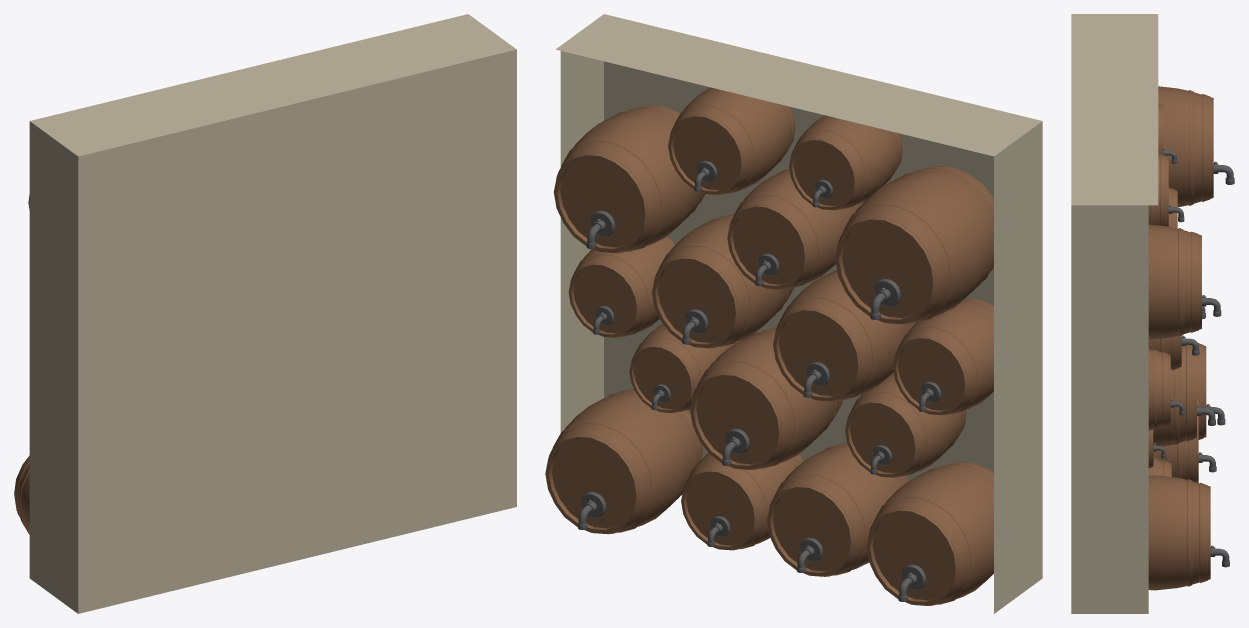
The model's file is mur_tonneaux.fbx.
3 views of the same model, side by side, from view 1: azimuth 30°, elevation 25°; view 2: azimuth 150°, elevation 25°; view 3: azimuth 270°, elevation 25° (orthographic). The views are drawn at different scales.
Visible parts, largest first — view 1: mur_coin_tonneau, tonneau_robinet4; view 2: mur_coin_tonneau, tonneau_robinet14, tonneau_robinet1, tonneau_robinet12, tonneau_robinet4, tonneau_robinet6, tonneau_robinet3, tonneau_robinet9, tonneau_robinet8, tonneau_robinet16, tonneau_robinet13, tonneau_robinet10 (+5 smaller); view 3: mur_coin_tonneau, tonneau_robinet1, tonneau_robinet12, tonneau_robinet14, tonneau_robinet6, tonneau_robinet11, tonneau_robinet3, tonneau_robinet16, tonneau_robinet4, tonneau_robinet8, tonneau_robinet15, tonneau_robinet2 (+2 smaller).
Part boxes in pixels (left/top/right/bottom): mur_coin_tonneau: left=29, top=14, right=516, bottom=613; tonneau_robinet4: left=14, top=455, right=29, bottom=534; mur_coin_tonneau: left=556, top=14, right=1042, bottom=613; tonneau_robinet14: left=835, top=166, right=993, bottom=324; tonneau_robinet1: left=545, top=388, right=702, bottom=534; tonneau_robinet12: left=553, top=105, right=705, bottom=253; tonneau_robinet4: left=866, top=462, right=993, bottom=605; tonneau_robinet6: left=690, top=327, right=842, bottom=469; tonneau_robinet3: left=767, top=442, right=908, bottom=576; tonneau_robinet9: left=773, top=270, right=916, bottom=401; tonneau_robinet8: left=652, top=213, right=793, bottom=348; tonneau_robinet16: left=668, top=87, right=795, bottom=194; tonneau_robinet13: left=727, top=169, right=860, bottom=289; tonneau_robinet10: left=893, top=298, right=993, bottom=415; mur_coin_tonneau: left=1071, top=14, right=1158, bottom=613; tonneau_robinet1: left=1148, top=475, right=1229, bottom=590; tonneau_robinet12: left=1148, top=224, right=1221, bottom=339; tonneau_robinet14: left=1158, top=86, right=1234, bottom=207; tonneau_robinet6: left=1153, top=345, right=1215, bottom=446; tonneau_robinet11: left=1148, top=349, right=1185, bottom=430; tonneau_robinet3: left=1153, top=397, right=1216, bottom=482; tonneau_robinet16: left=1148, top=154, right=1184, bottom=226; tonneau_robinet4: left=1197, top=343, right=1225, bottom=439; tonneau_robinet8: left=1148, top=335, right=1199, bottom=370; tonneau_robinet15: left=1158, top=103, right=1177, bottom=163; tonneau_robinet2: left=1148, top=457, right=1171, bottom=476.
Bounding box in the file's own units: 187 × 188 × 67.34.
